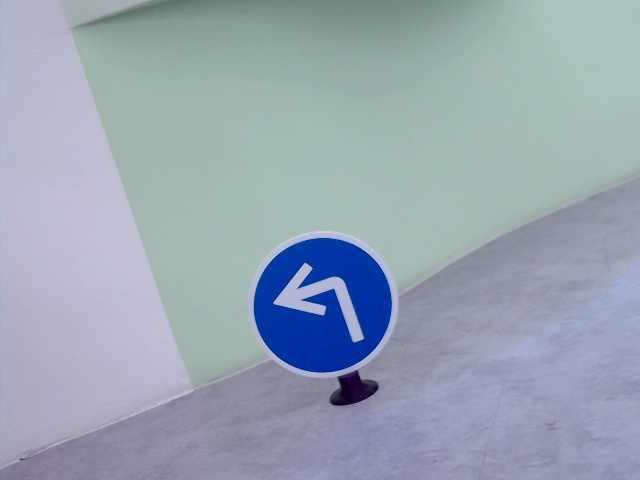turn_left: (273, 260, 366, 345)
